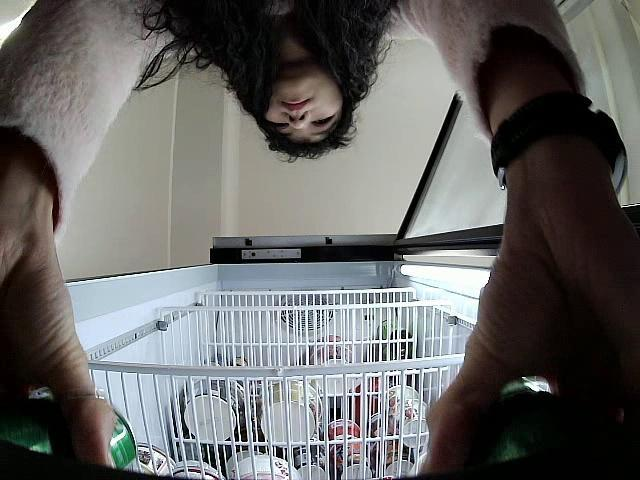12_chilsungCider: (0, 392, 142, 476)
